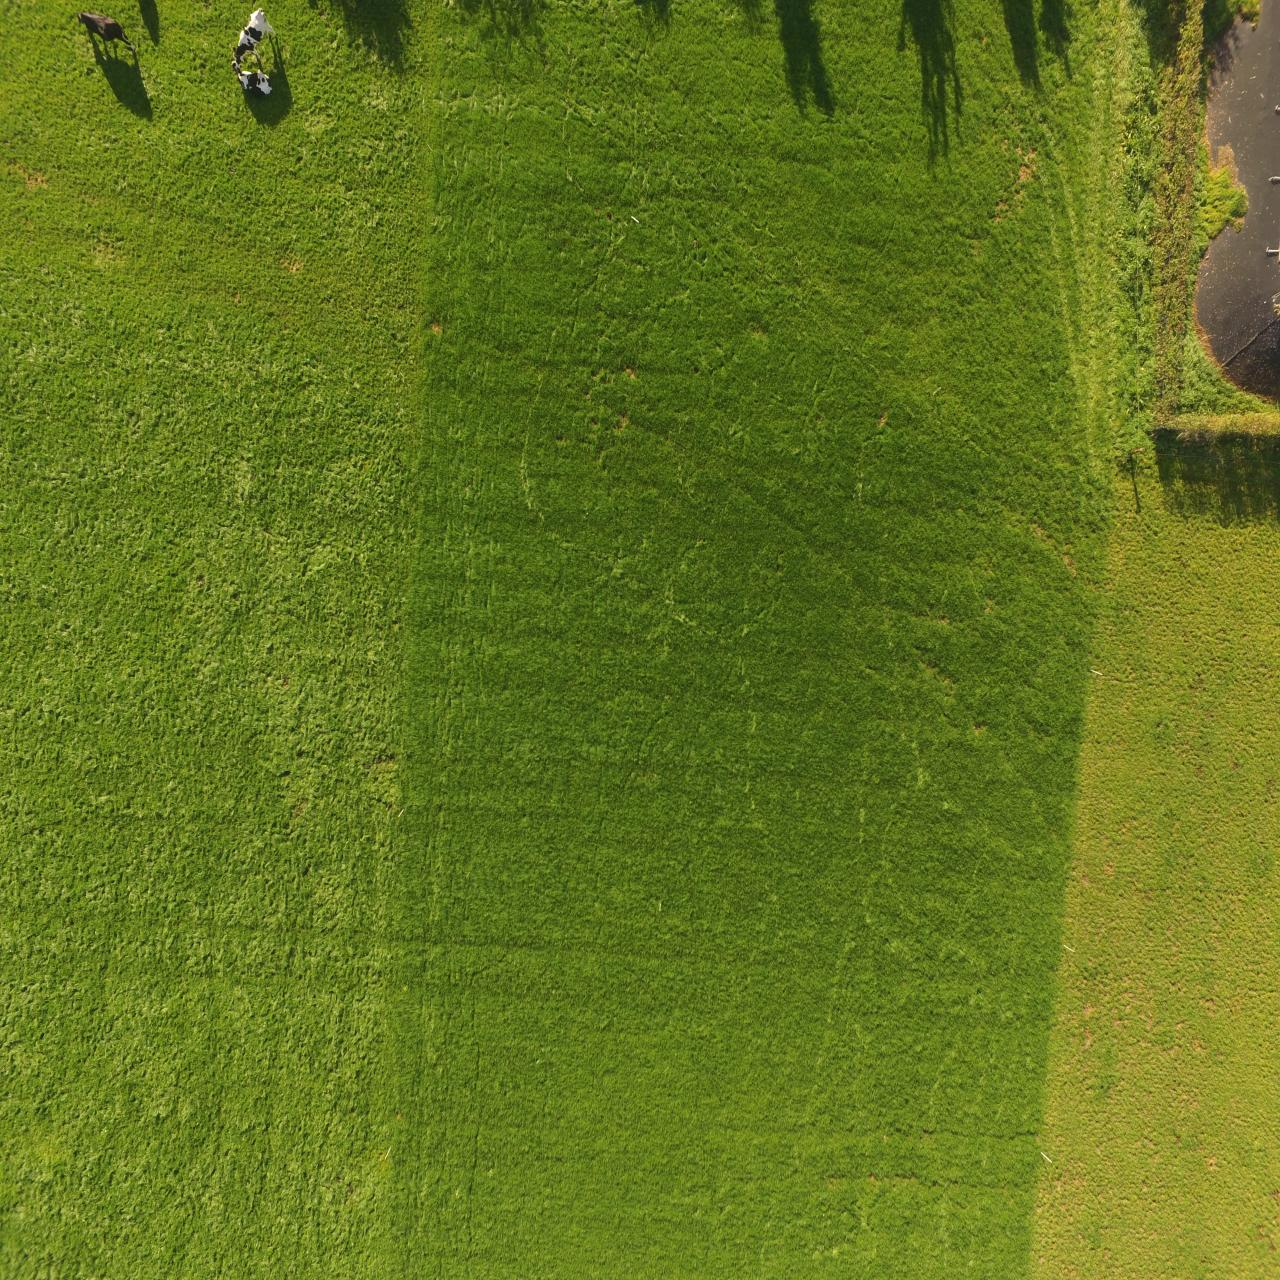cow: (81, 13, 145, 66), (237, 15, 292, 62), (229, 69, 277, 102)
